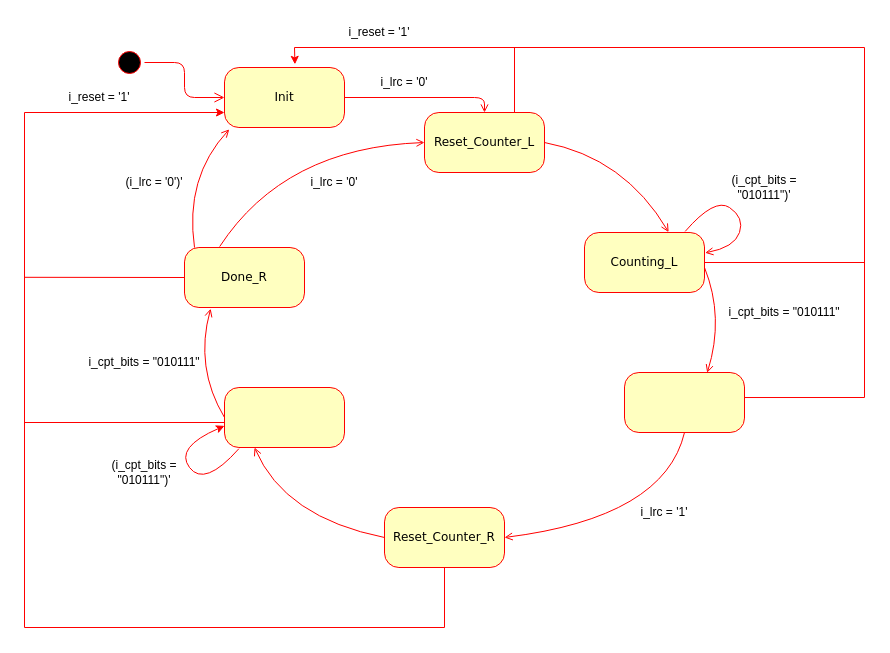
Some shapes in this 890 by 653 pixel diagram are drawn without their labels. Here are the shapes that lost their labels. From the top down, the box of each, then its label:
(224, 386, 344, 448): Counting_R
(624, 372, 744, 432): Done_L
